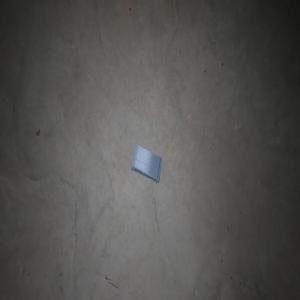PlasticPart: (130, 143, 162, 183)
